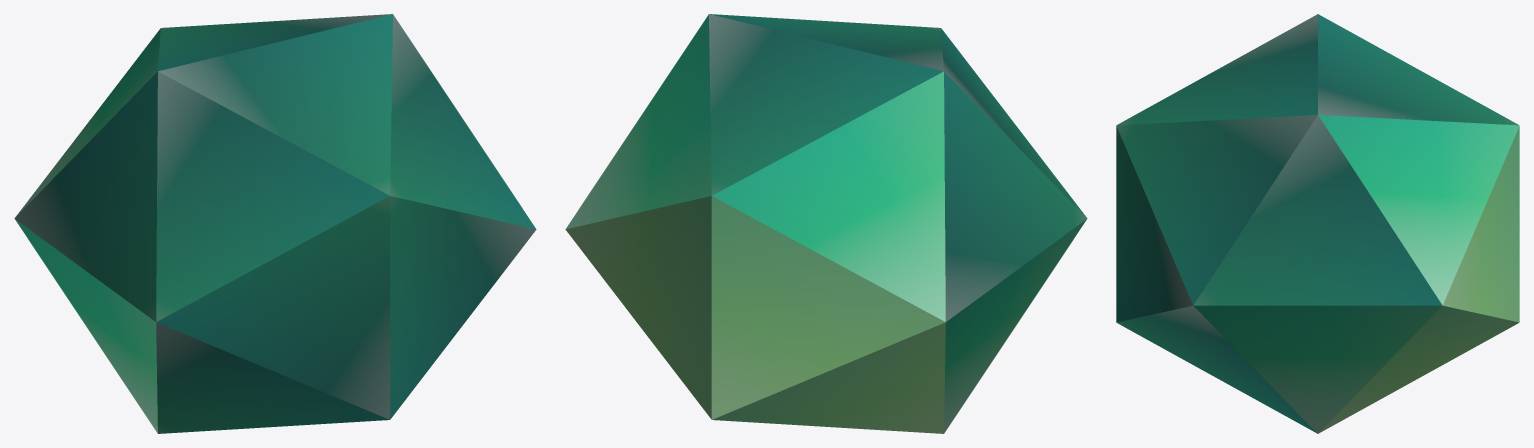
File: gem05.fbx
The picture shows the model from 3 angles, left to right: view 1: azimuth 30°, elevation 25°; view 2: azimuth 150°, elevation 25°; view 3: azimuth 270°, elevation 25°; orthographic projection. The views are drawn at different scales.
Parts seen in each view (by area): view 1: gem05; view 2: gem05; view 3: gem05.
Part boxes in pixels (left/top/right/bottom): gem05: left=14, top=14, right=536, bottom=433; gem05: left=565, top=14, right=1087, bottom=433; gem05: left=1116, top=14, right=1519, bottom=433.
Bounding box in the file's own units: 75.21 × 68.51 × 78.55.
